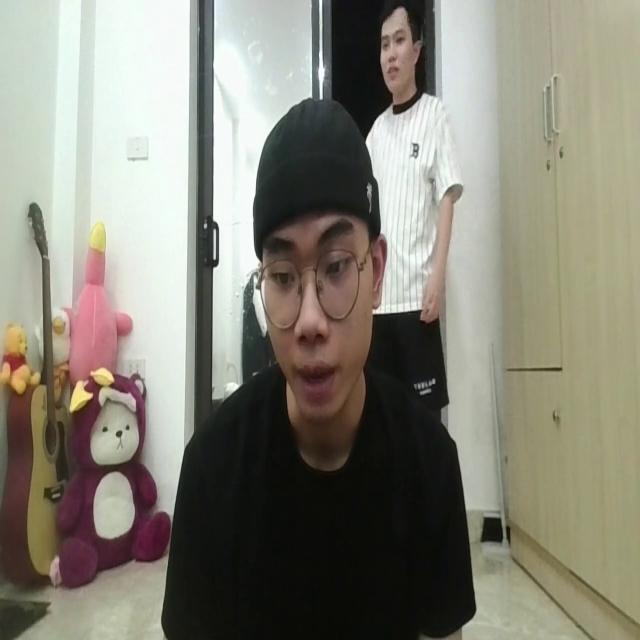extra_person: (366, 6, 458, 374)
student: (165, 90, 462, 640)
